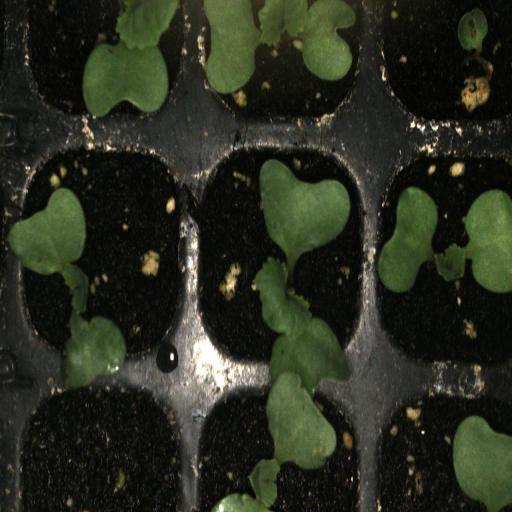noseedling: (11, 377, 196, 512)
seedling: (13, 138, 196, 376), (196, 134, 371, 381), (372, 138, 512, 382), (16, 0, 194, 149), (194, 0, 370, 146), (196, 378, 372, 512)
weak: (368, 0, 512, 142)
